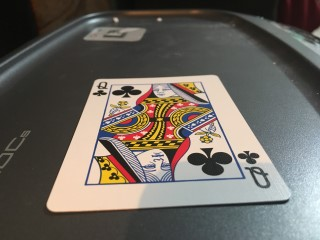QueenOfClubs: (46, 74, 290, 212)
